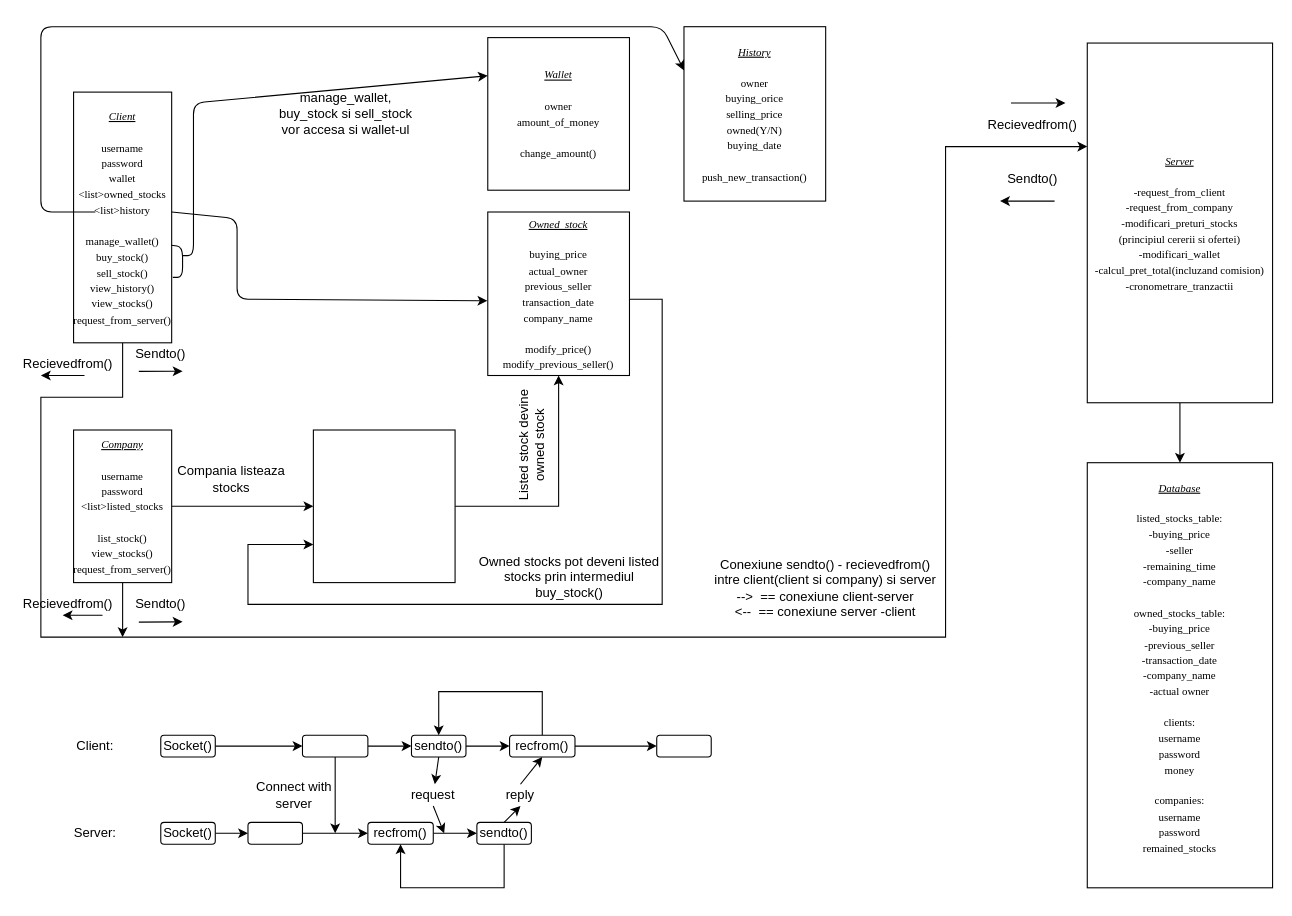
This 1292x916 diagram has some shape labels left out. Here are the shapes that lost their labels. From the top down, the centre of each, then its label:
the point at 383,506: Listed_stocks buying_price seller remaining_time company_name
the point at 334,745: Connect()
the point at 683,745: close()
the point at 274,832: Bind()
